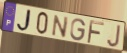0: (35, 11, 50, 38)
F: (86, 19, 105, 45)
G: (70, 18, 87, 42)
J: (16, 9, 34, 33), (106, 25, 122, 49)
N: (50, 14, 70, 39)
